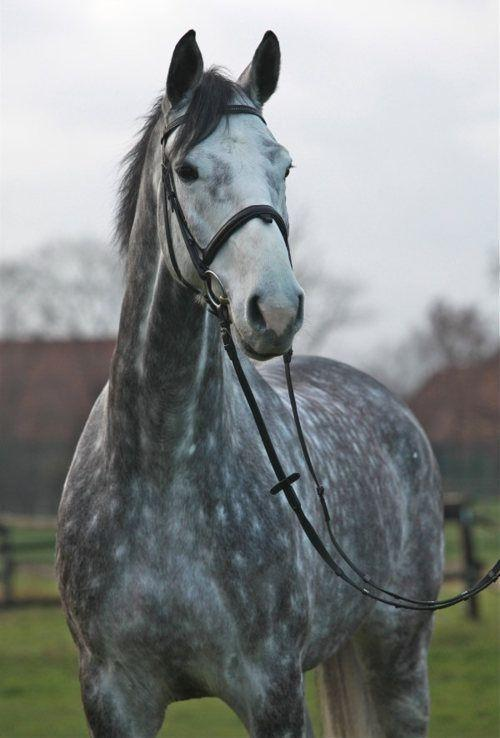horse: (54, 27, 445, 737)
